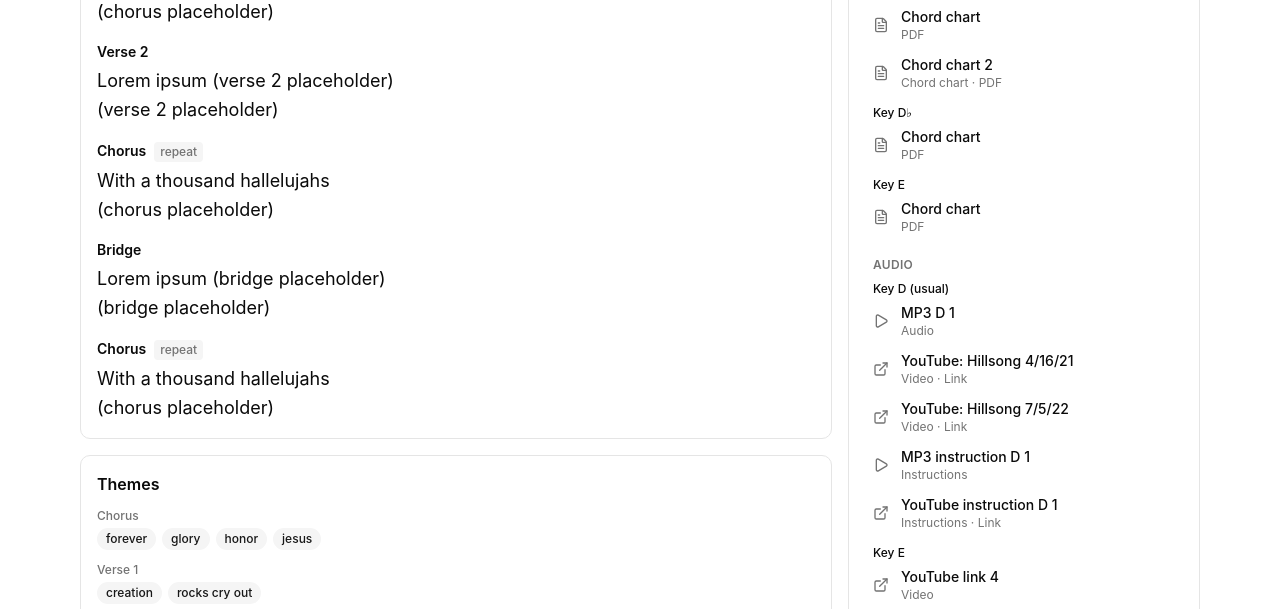
SongPage › plays audio inline and can close the player
(page scrolled)
Click the button "MP3 D 1 Audio" at (928, 312), box [865,297,1183,345]
(page scrolled)
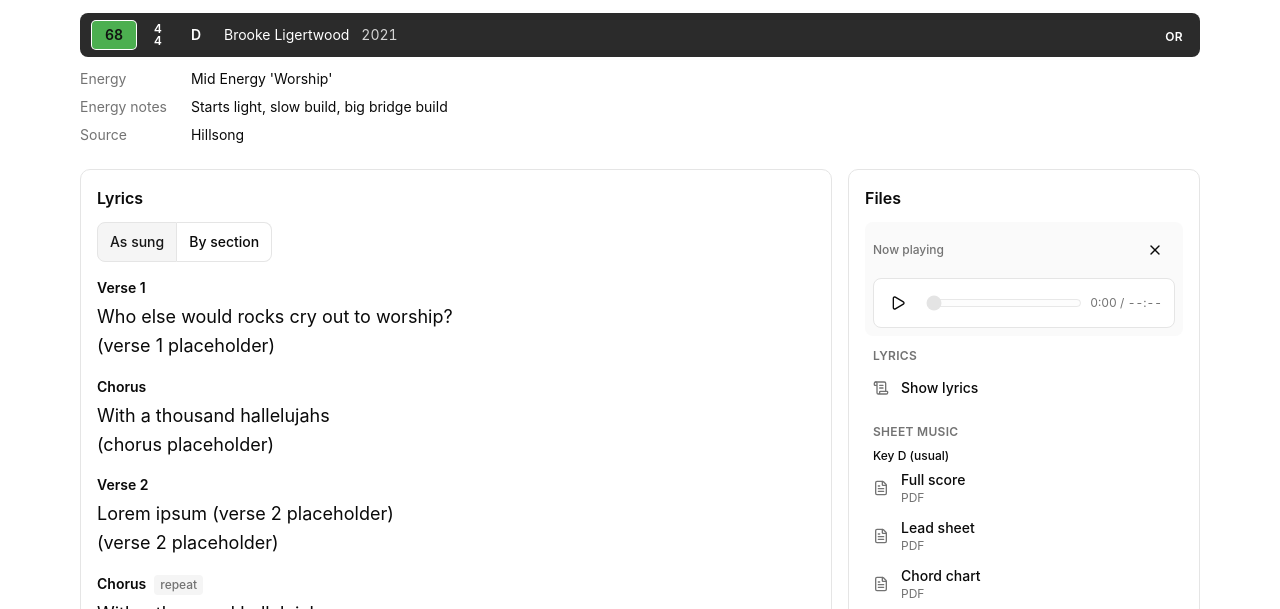
Click the button named "Close player" at (1155, 250), box [1135,230,1175,270]
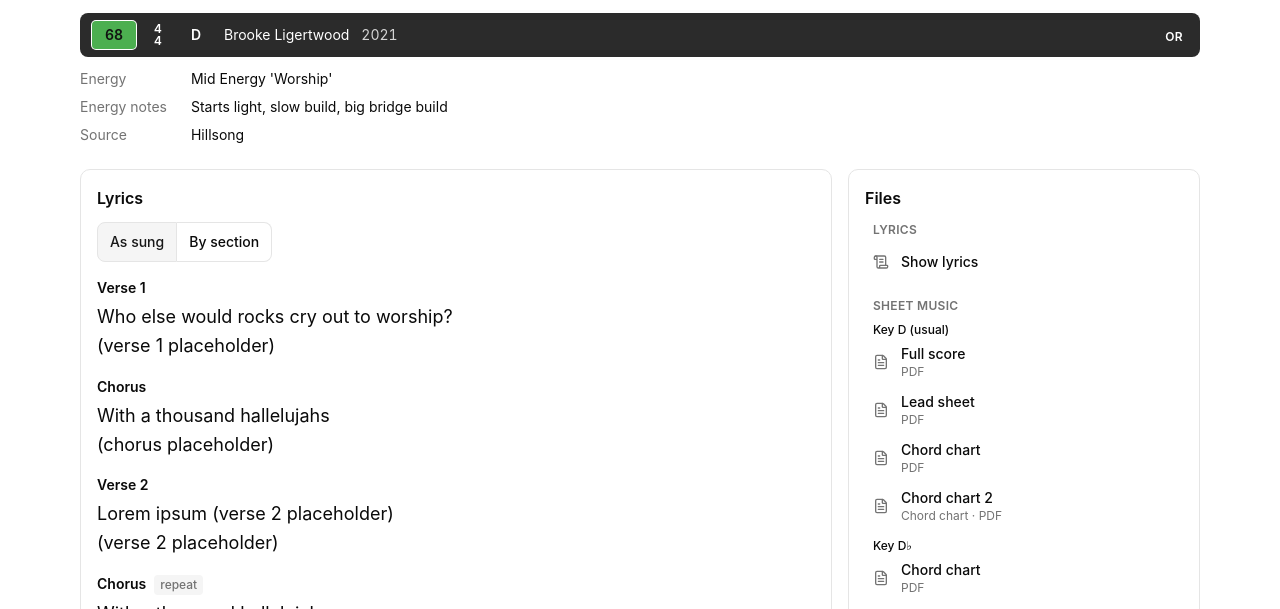
Expected: the element with test id "now-playing" is gone
